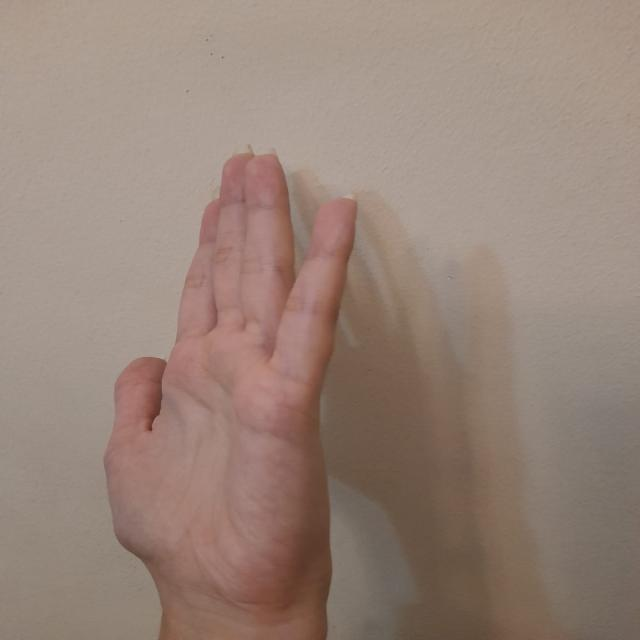Open Hand: (104, 152, 353, 611)
